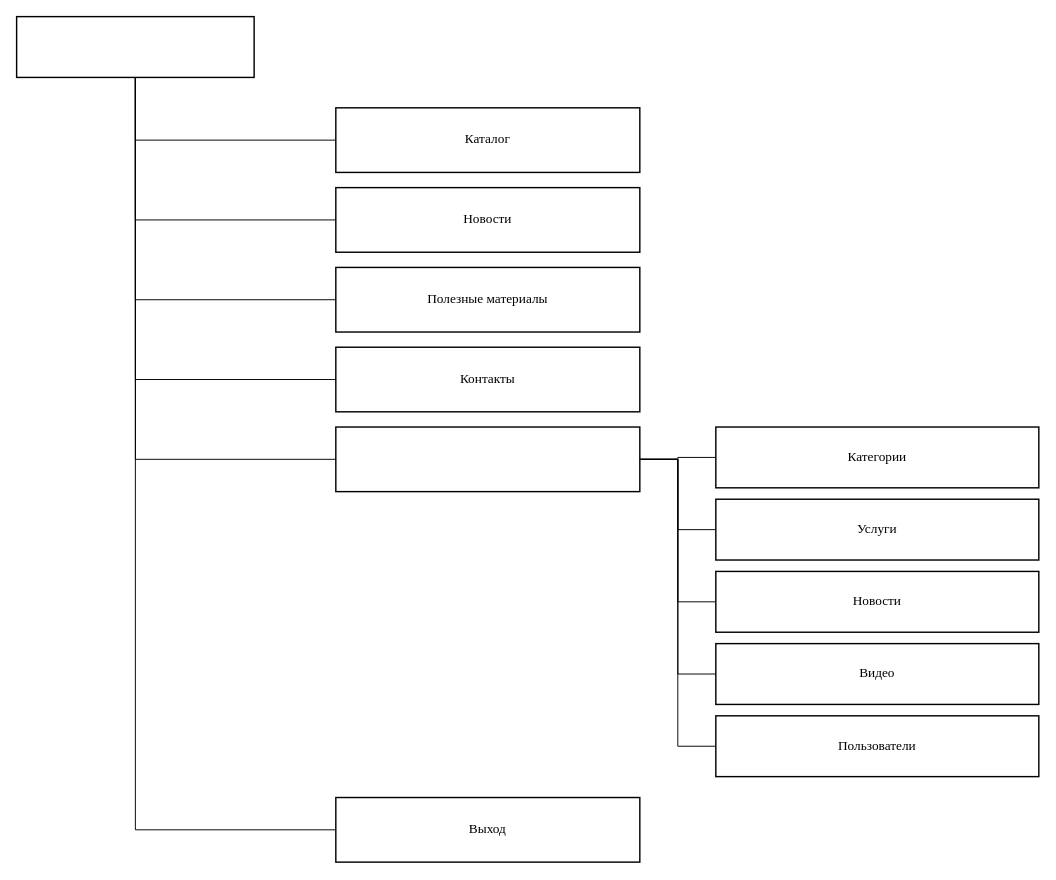
Some shapes in this 1056 by 880 pixel diagram are drawn without their labels. Here are the shapes that lost their labels. From the top down, the centre of each, then its label:
At (x=134, y=46): "Главная".
At (x=487, y=459): "Панель".
